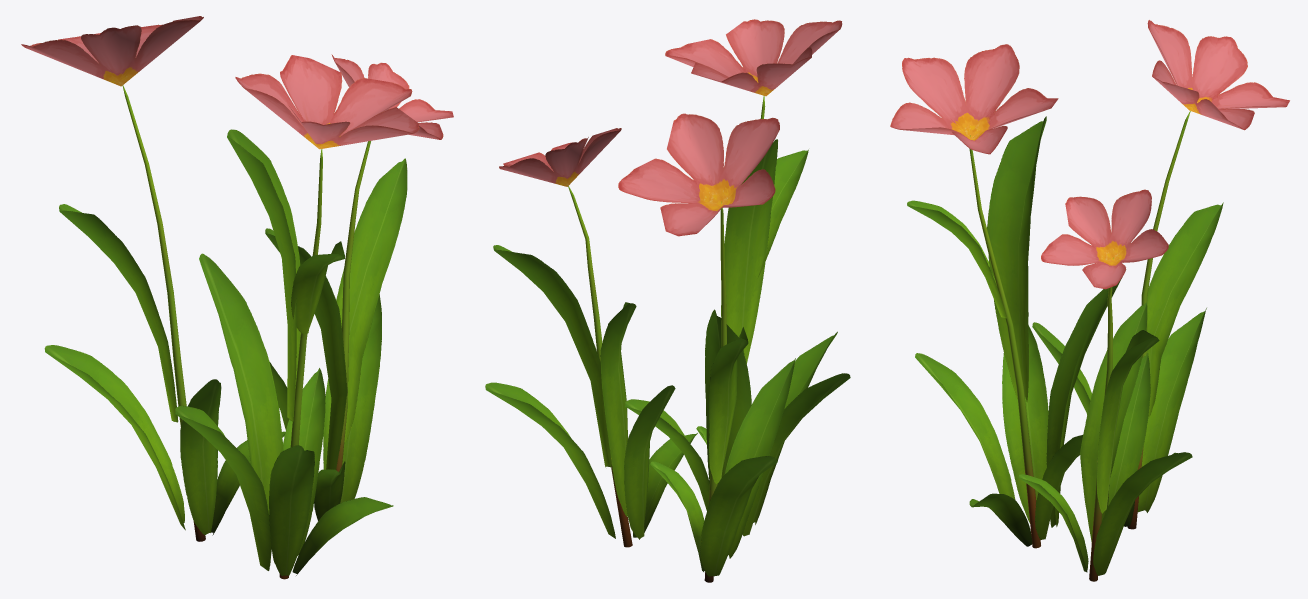
The model's file is Flower_3_Group.gltf.
3 renders of one model, left to right at view 1: azimuth 30°, elevation 25°; view 2: azimuth 150°, elevation 25°; view 3: azimuth 270°, elevation 25°, orthographic. The views are drawn at different scales.
Visible parts, largest first — view 1: Flower_3_Group; view 2: Flower_3_Group; view 3: Flower_3_Group.
Part boxes in pixels (left/top/right/bottom): Flower_3_Group: left=21, top=16, right=453, bottom=579; Flower_3_Group: left=485, top=19, right=850, bottom=582; Flower_3_Group: left=890, top=20, right=1289, bottom=581.
Size of the model in its own units: 1.49 by 2.05 by 1.59.
Materials: 2 (2 with a texture image).
